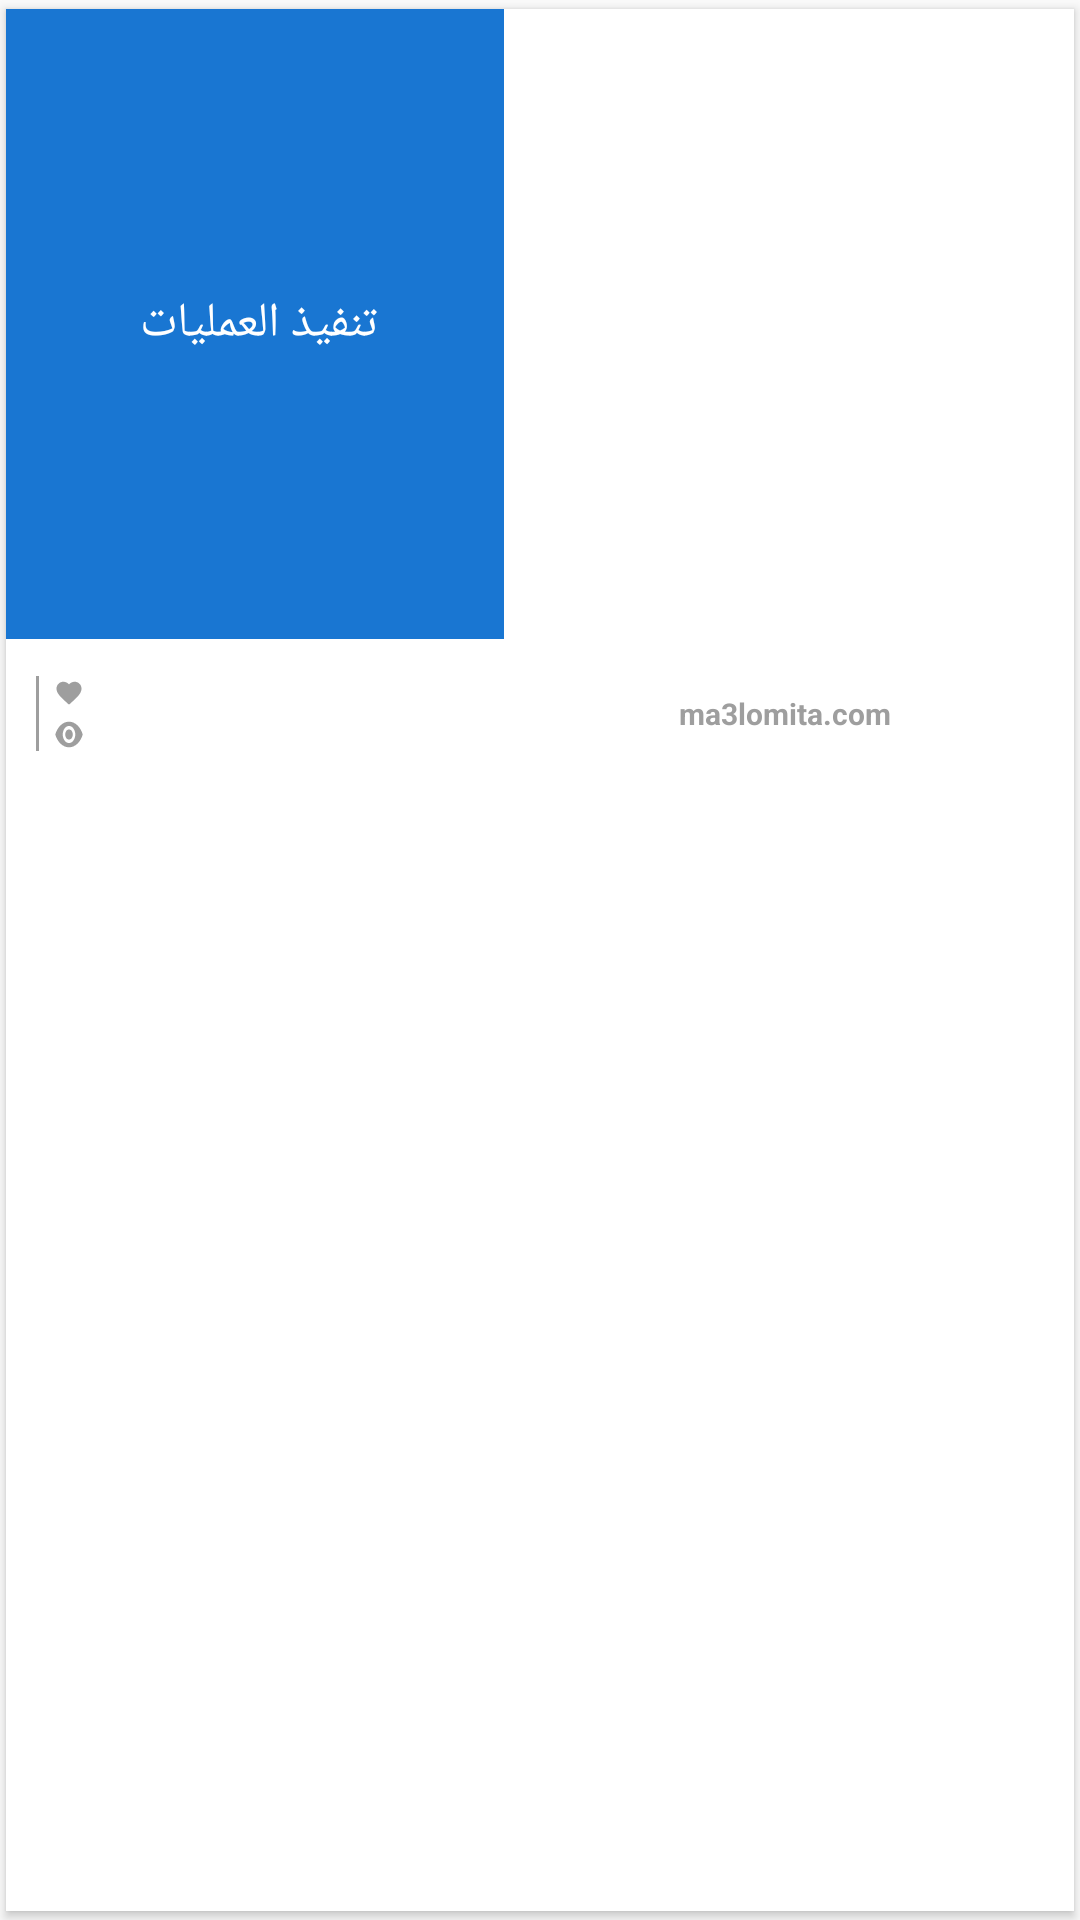

Screen size 1080w x 1920h. Icon name, then its box in pixels as detection(x1, y1, x2, y2):
favorite: detection(56, 682, 82, 704)
visibility: detection(55, 722, 83, 747)
